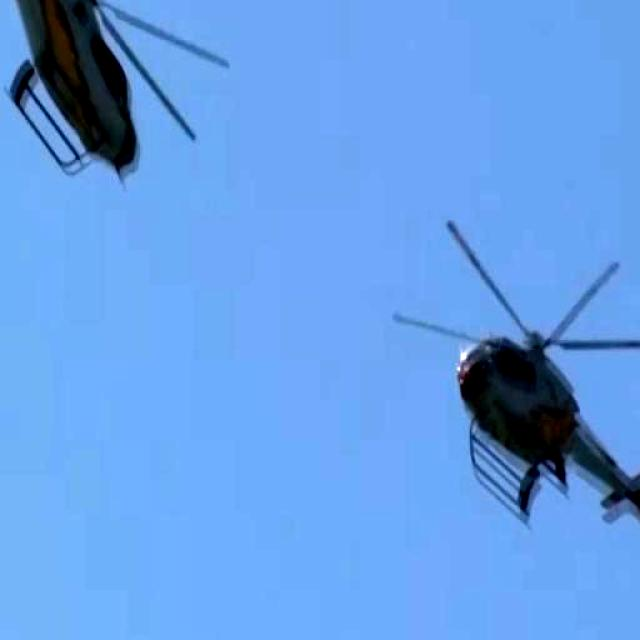drone: (418, 220, 640, 581), (0, 0, 224, 190)
